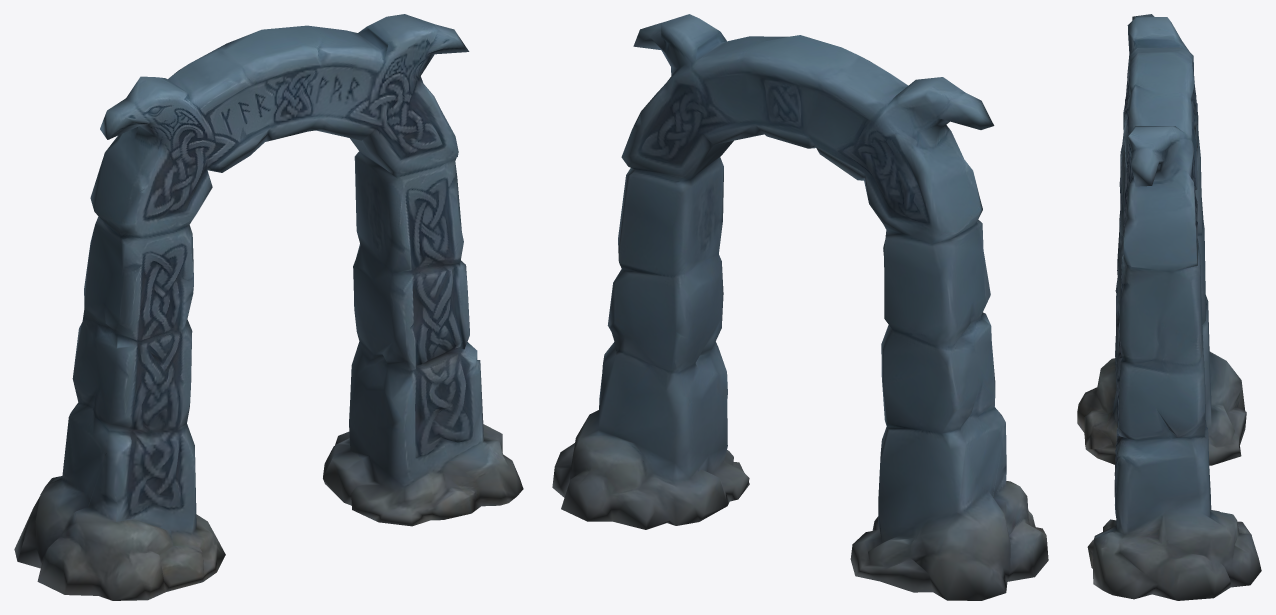
The model's file is gateway.glb.
The picture shows the model from 3 angles, left to right: view 1: azimuth 30°, elevation 25°; view 2: azimuth 150°, elevation 25°; view 3: azimuth 270°, elevation 25°; orthographic projection. The views are drawn at different scales.
Parts seen in each view (by area): view 1: tripo_node_7f7406b9-9f28-45a6-b36b-006af3376237; view 2: tripo_node_7f7406b9-9f28-45a6-b36b-006af3376237; view 3: tripo_node_7f7406b9-9f28-45a6-b36b-006af3376237.
Boxes of the visible parts, x1=… form: tripo_node_7f7406b9-9f28-45a6-b36b-006af3376237: x1=14, y1=14, x2=523, y2=600; tripo_node_7f7406b9-9f28-45a6-b36b-006af3376237: x1=552, y1=14, x2=1048, y2=600; tripo_node_7f7406b9-9f28-45a6-b36b-006af3376237: x1=1077, y1=14, x2=1261, y2=600.
Bounding box in the file's own units: 1 × 0.9818 × 0.3798.
1 material, 1 textured.
